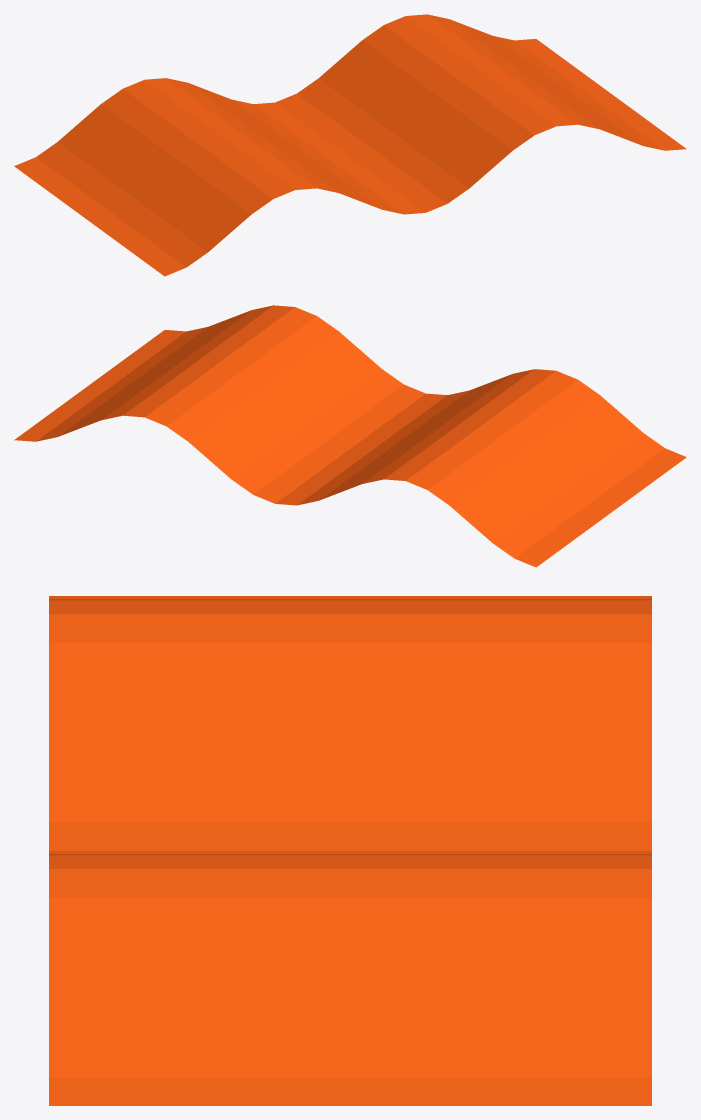
Rendered from smooth_wave_surface.dae.
3 renders of one model, top to bottom at view 1: azimuth 30°, elevation 25°; view 2: azimuth 150°, elevation 25°; view 3: azimuth 270°, elevation 25°, orthographic. The views are drawn at different scales.
Visible parts, largest first — view 1: smooth_wave_surface_node; view 2: smooth_wave_surface_node; view 3: smooth_wave_surface_node.
Part boxes in pixels (left/top/right/bottom): smooth_wave_surface_node: left=14, top=14, right=686, bottom=276; smooth_wave_surface_node: left=14, top=305, right=686, bottom=567; smooth_wave_surface_node: left=49, top=596, right=651, bottom=1105.
Size of the model in its own units: 0.18 by 0.09 by 0.018.
